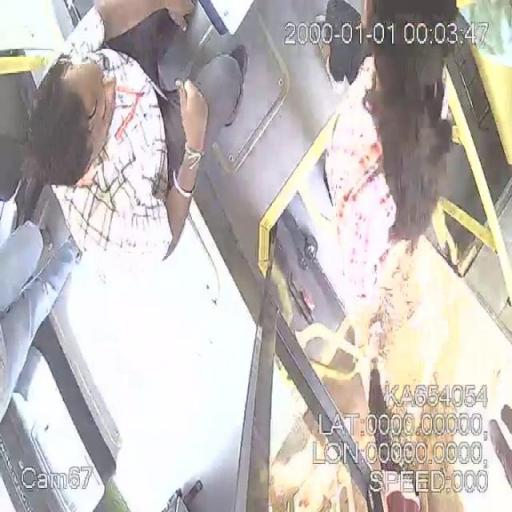persona: (1, 2, 249, 272), (308, 4, 452, 341)
